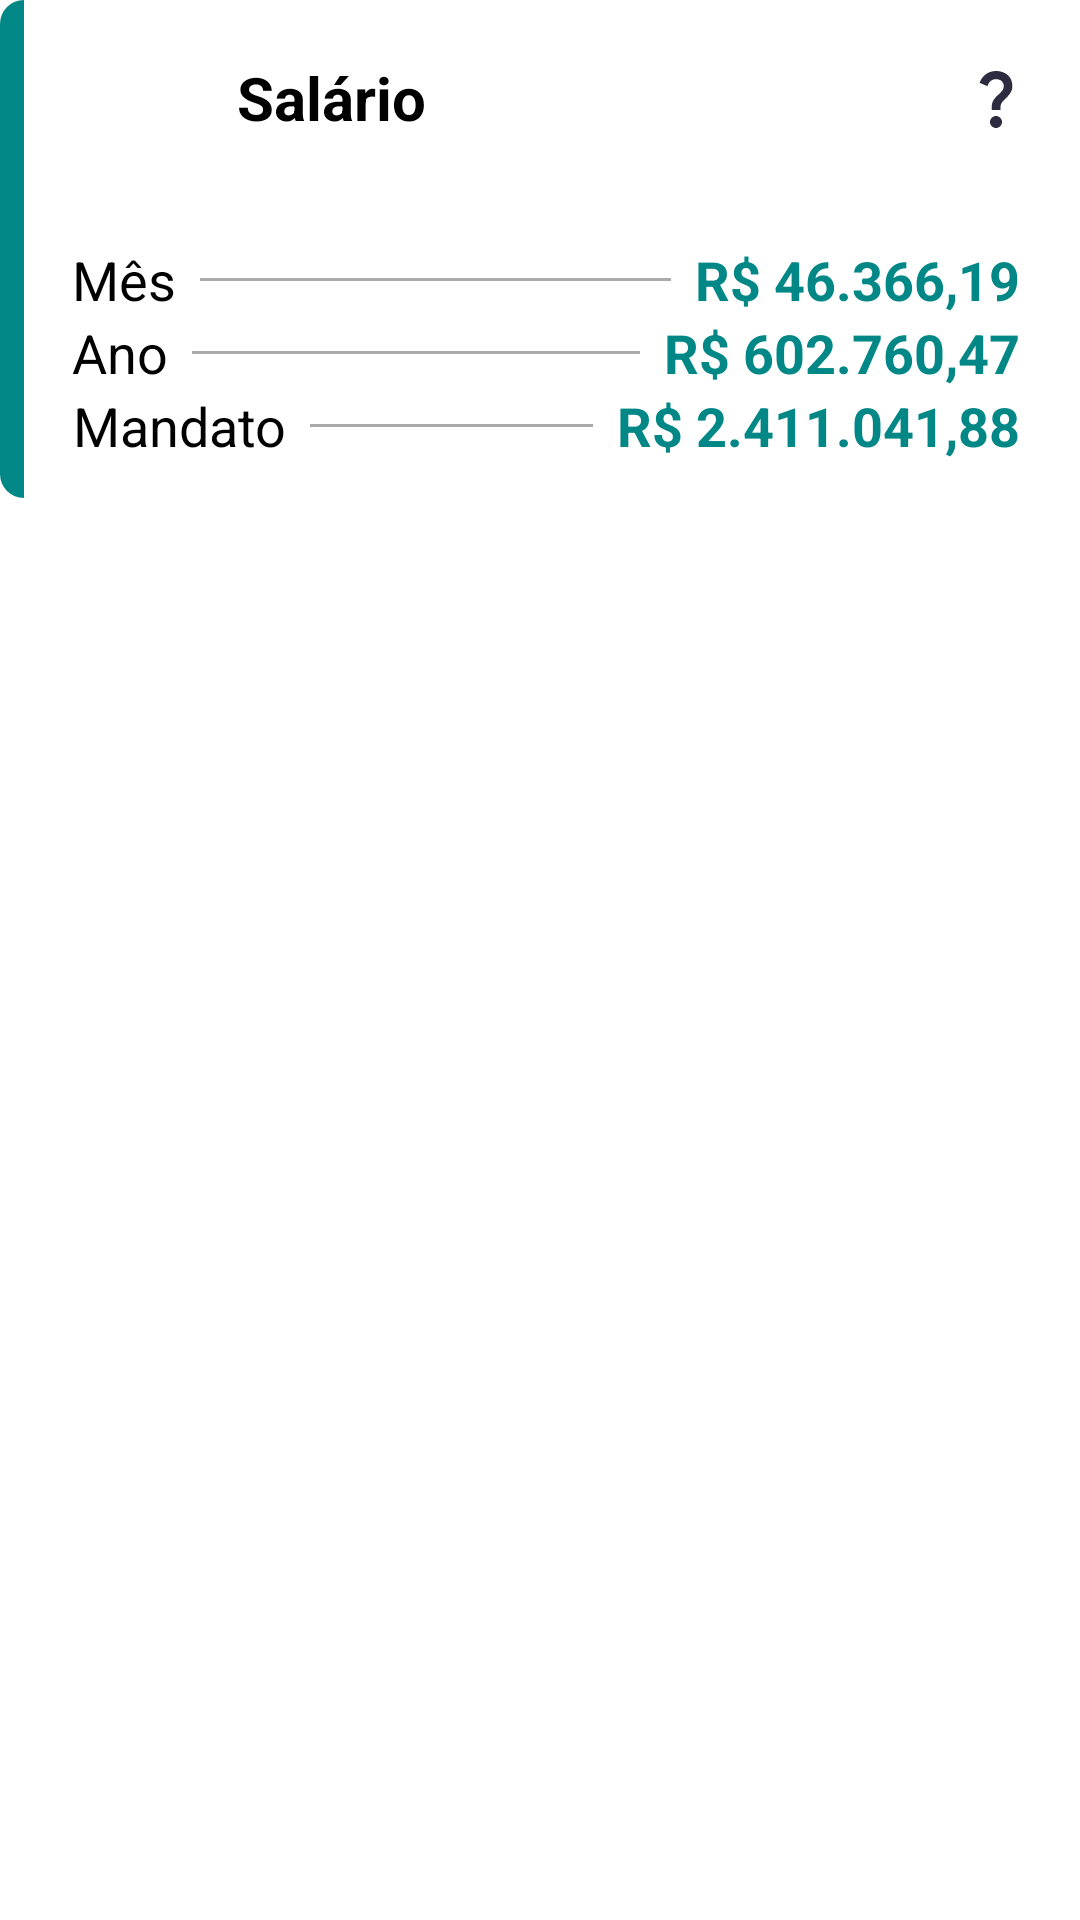

Locate icon controls on the screen. Image size 1080px×1920px, boxes as bbox=(x1, y1, x2, y2).
question: bbox=(979, 71, 1013, 128)
